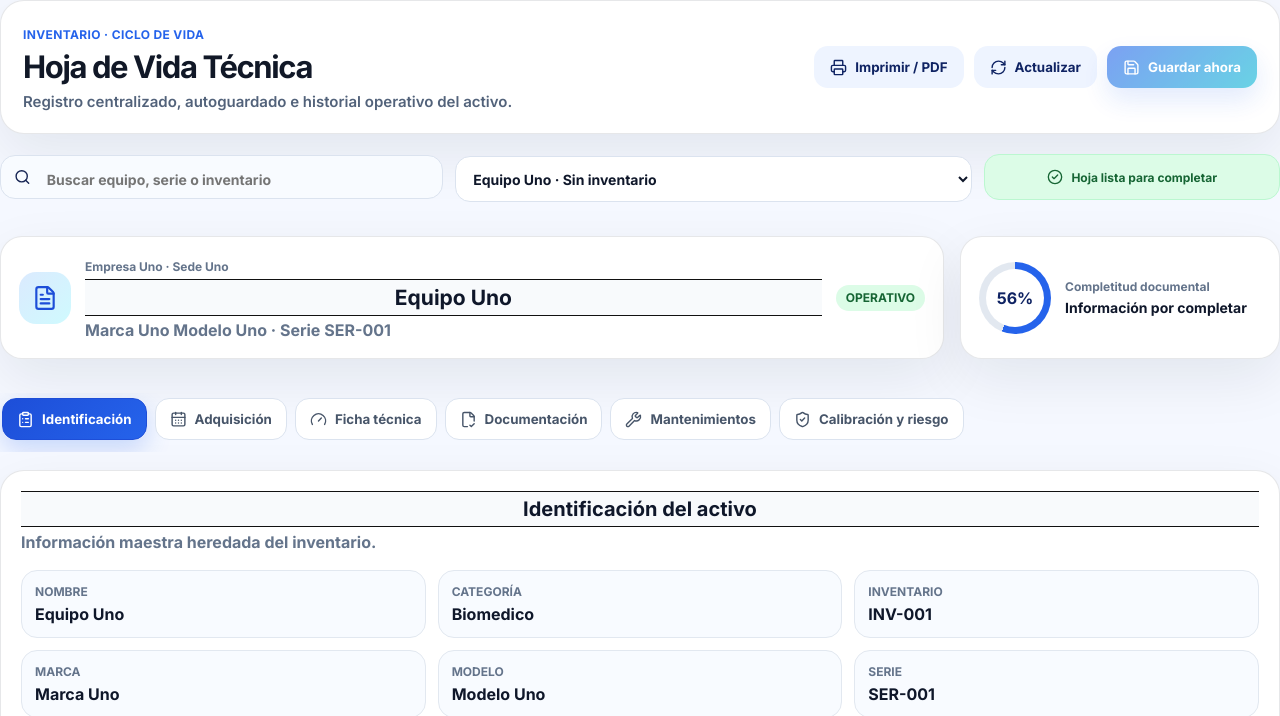
Portal Coordinador › carga la hoja de vida PRO con historial y permite guardar
Expected: the heading "Equipo Uno" is shown, [85, 279, 822, 316]
Click the button "Adquisición".
click(221, 419)  # box [154, 398, 287, 440]
(page scrolled)
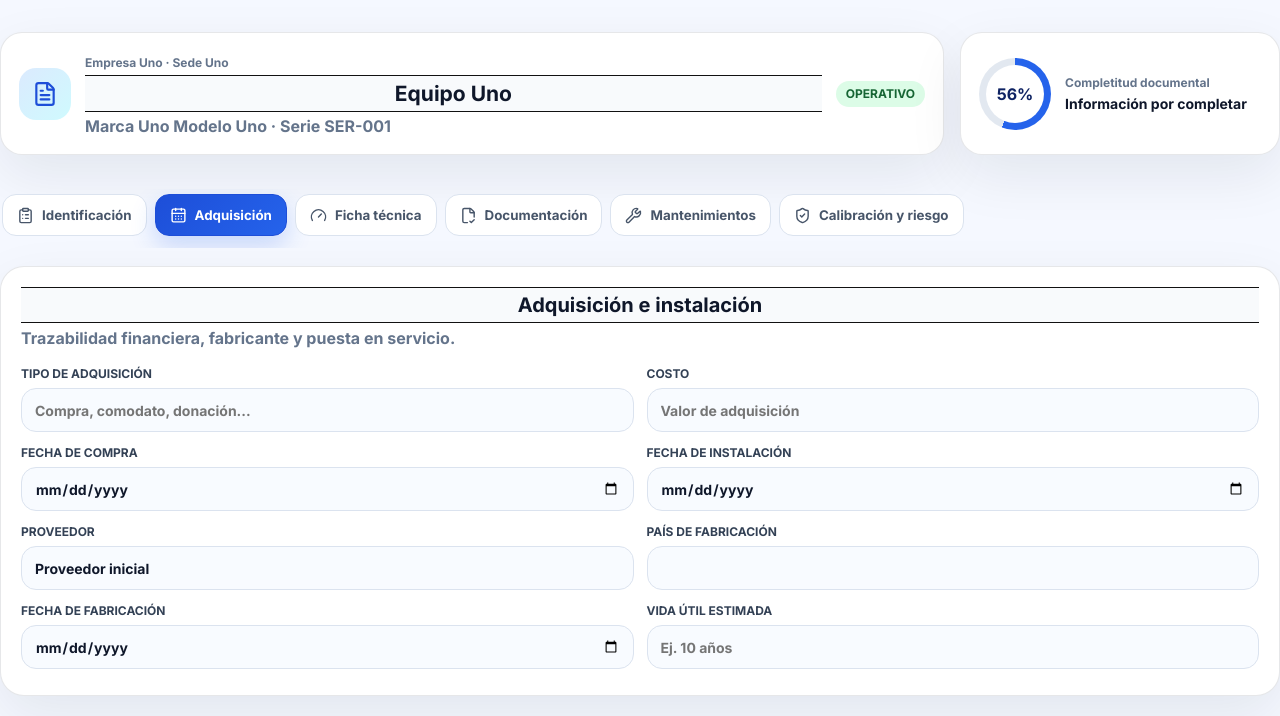
Replace the text in the field labelled "Proveedor" with "Proveedor actualizado" at (327, 568), box [21, 546, 634, 590]
(page scrolled)
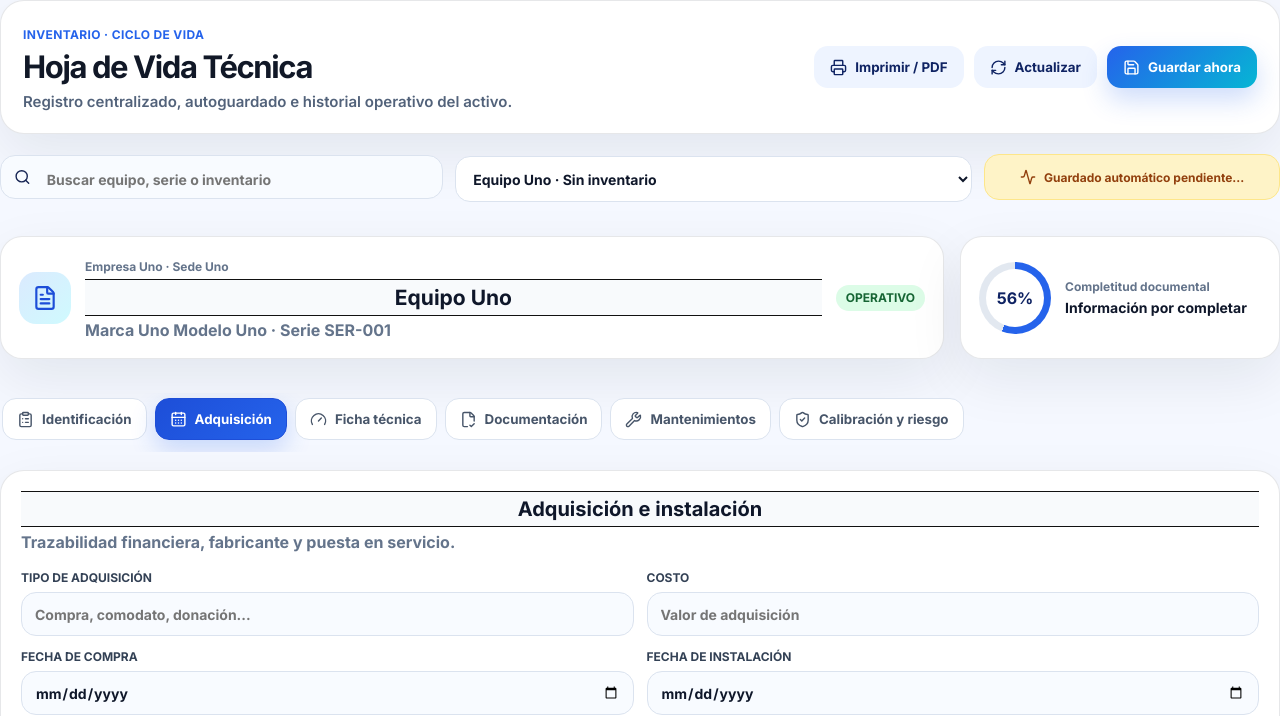
Click the button "Guardar ahora".
click(1182, 67)  # box [1107, 46, 1257, 88]
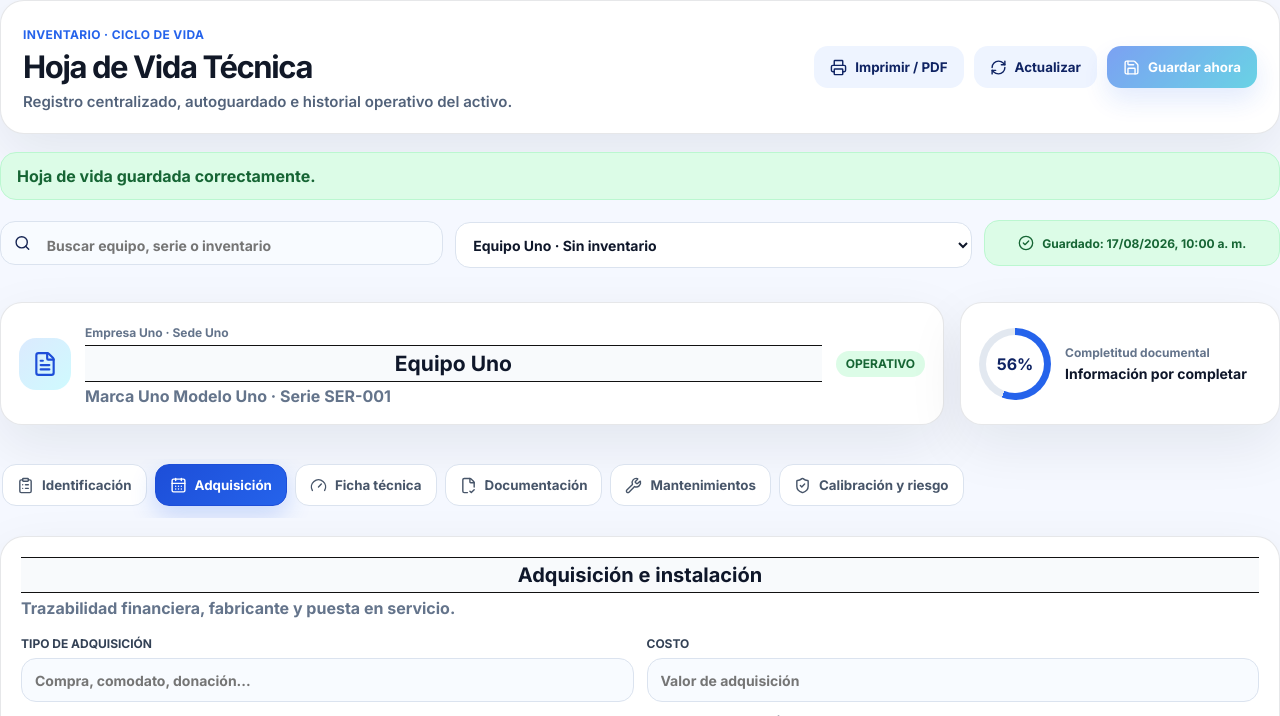
Click the button "Mantenimientos".
click(691, 485)  # box [610, 464, 771, 506]
(page scrolled)
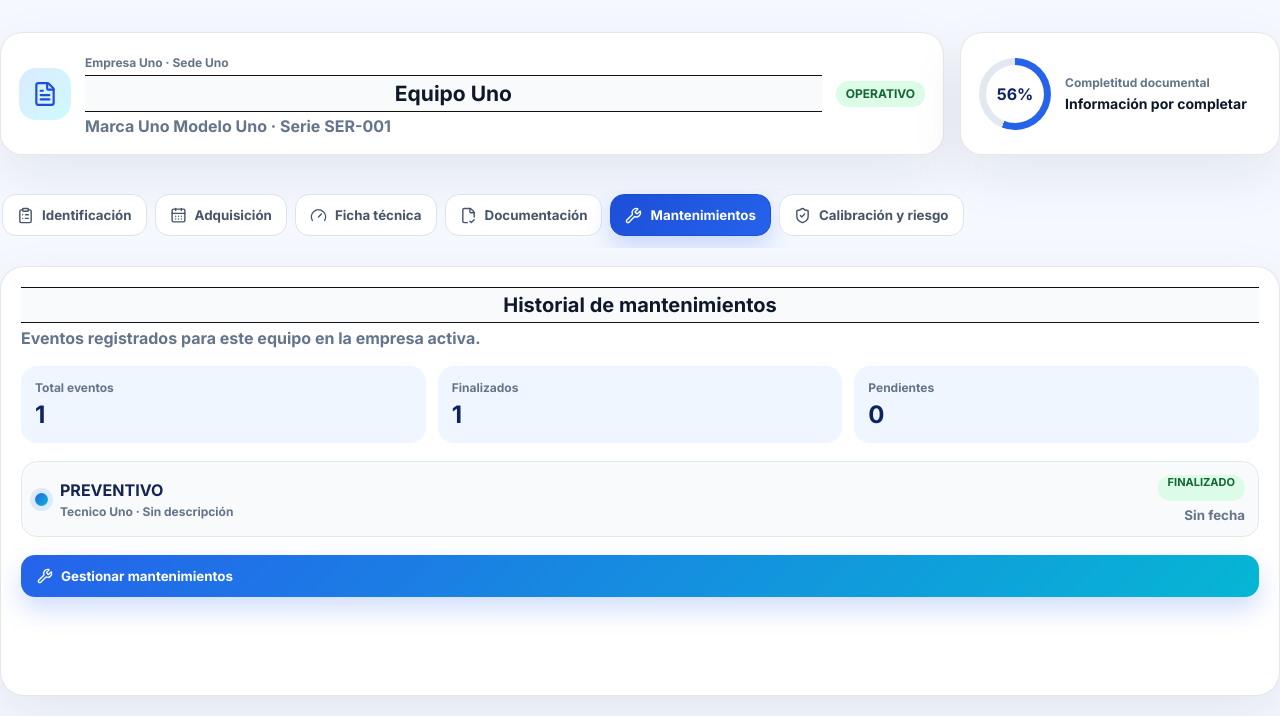
Result: the text "PREVENTIVO" is shown at [60, 480, 163, 500]
